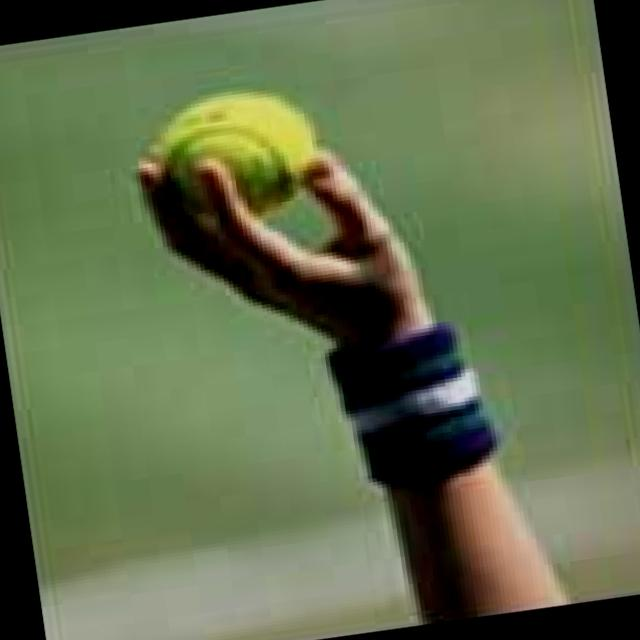Tennis Ball: (141, 88, 318, 216)
